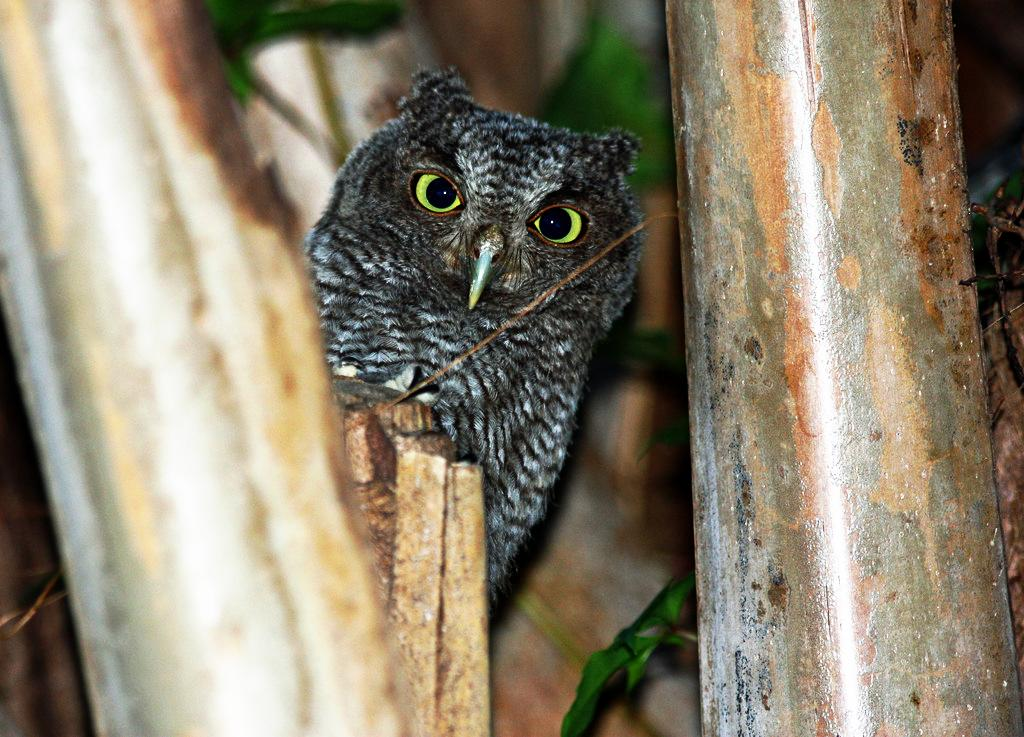Owl: (308, 69, 651, 620)
